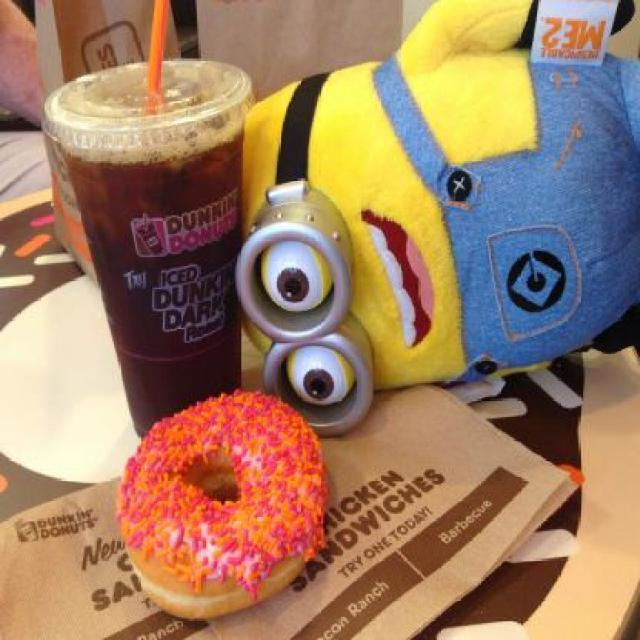Bagel: (113, 390, 330, 622)
